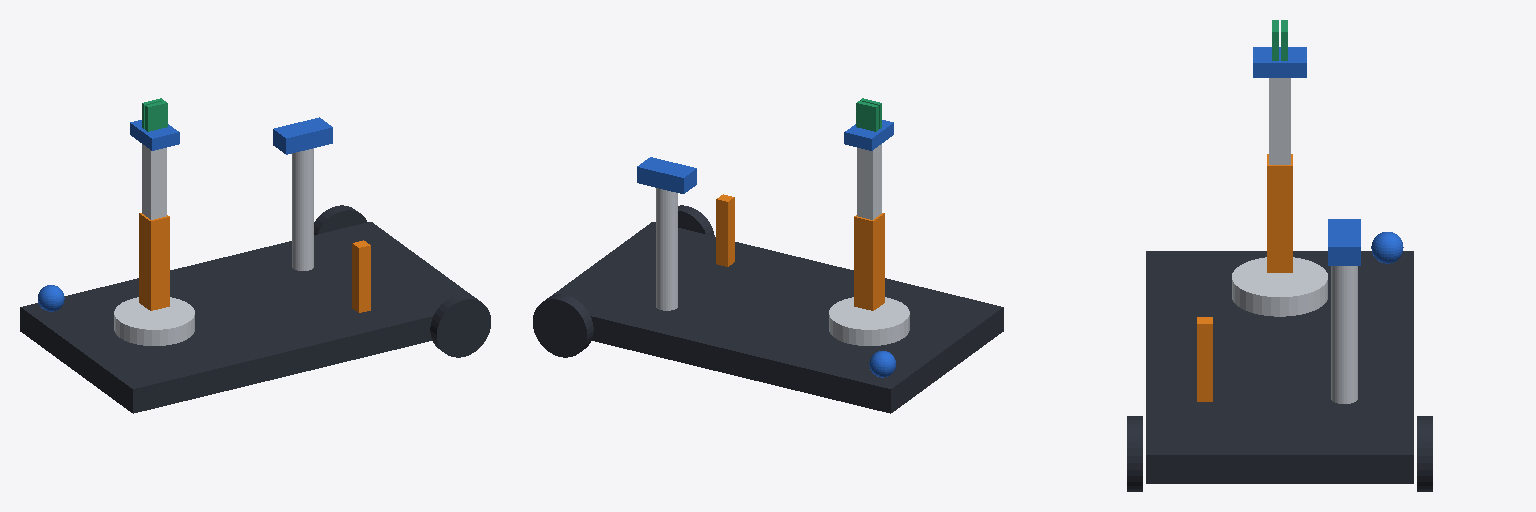
robot.urdf — joint_playground:
<?xml version="1.0"?>
<!--
  Joint playground: one of every joint the viewer poses, built from primitives so it
  needs no mesh files. Metres and radians.

    turntable   continuous  about +Z             (no limits: spins freely)
    shoulder    revolute    about +Y, -90..90 deg
    elbow       revolute    about +Y,   0..135 deg (one-sided limit)
    wrist_roll  revolute    about +X, -180..180 deg (axis along the link)
    lift        prismatic   along +Z, 0..0.25 m
    slide       prismatic   along +X, -0.15..0.15 m (symmetric)
    skew        revolute    about a diagonal axis (1 1 0), -60..60 deg
    finger_left prismatic   along +Y, 0..0.04 m
    finger_right prismatic  mimics finger_left with multiplier -1
    wheel_*     continuous  about +Y (two of them, to check side-by-side handles)
    camera_mount fixed      (must get no handle)
-->
<robot name="joint_playground">
  <material name="base"><color rgba="0.23 0.25 0.29 1"/></material>
  <material name="light"><color rgba="0.82 0.84 0.87 1"/></material>
  <material name="accent"><color rgba="0.95 0.55 0.15 1"/></material>
  <material name="blue"><color rgba="0.22 0.47 0.85 1"/></material>
  <material name="green"><color rgba="0.20 0.66 0.45 1"/></material>

  <link name="base_link">
    <inertial><mass value="4.0"/><origin xyz="0 0 0.03"/><inertia ixx="0.05" ixy="0" ixz="0" iyy="0.08" iyz="0" izz="0.12"/></inertial>
    <visual><origin xyz="0 0 0.03"/><geometry><box size="0.9 0.5 0.06"/></geometry><material name="base"/></visual>
    <collision><origin xyz="0 0 0.03"/><geometry><box size="0.9 0.5 0.06"/></geometry></collision>
  </link>

  <!-- Arm: continuous turntable, two revolutes, a roll about the link's own axis, a gripper. -->
  <link name="turntable_link">
    <inertial><mass value="0.8"/><inertia ixx="0.002" ixy="0" ixz="0" iyy="0.002" iyz="0" izz="0.004"/></inertial>
    <visual><origin xyz="0 0 0.02"/><geometry><cylinder radius="0.09" length="0.04"/></geometry><material name="light"/></visual>
  </link>
  <joint name="turntable" type="continuous">
    <parent link="base_link"/><child link="turntable_link"/>
    <origin xyz="-0.25 0 0.06"/><axis xyz="0 0 1"/>
  </joint>

  <link name="upper_arm_link">
    <inertial><mass value="0.6"/><origin xyz="0 0 0.11"/><inertia ixx="0.003" ixy="0" ixz="0" iyy="0.003" iyz="0" izz="0.0005"/></inertial>
    <visual><origin xyz="0 0 0.11"/><geometry><box size="0.05 0.05 0.22"/></geometry><material name="accent"/></visual>
  </link>
  <joint name="shoulder" type="revolute">
    <parent link="turntable_link"/><child link="upper_arm_link"/>
    <origin xyz="0 0 0.06"/><axis xyz="0 1 0"/>
    <limit lower="-1.5708" upper="1.5708" effort="20" velocity="2"/>
  </joint>

  <link name="forearm_link">
    <inertial><mass value="0.4"/><origin xyz="0 0 0.09"/><inertia ixx="0.001" ixy="0" ixz="0" iyy="0.001" iyz="0" izz="0.0002"/></inertial>
    <visual><origin xyz="0 0 0.09"/><geometry><box size="0.04 0.04 0.18"/></geometry><material name="light"/></visual>
  </link>
  <joint name="elbow" type="revolute">
    <parent link="upper_arm_link"/><child link="forearm_link"/>
    <origin xyz="0 0 0.22"/><axis xyz="0 1 0"/>
    <limit lower="0" upper="2.3562" effort="12" velocity="3"/>
  </joint>

  <link name="wrist_link">
    <inertial><mass value="0.15"/><inertia ixx="0.0001" ixy="0" ixz="0" iyy="0.0001" iyz="0" izz="0.0001"/></inertial>
    <visual><origin xyz="0 0 0.02" rpy="0 0 0"/><geometry><box size="0.07 0.1 0.03"/></geometry><material name="blue"/></visual>
  </link>
  <joint name="wrist_roll" type="revolute">
    <parent link="forearm_link"/><child link="wrist_link"/>
    <origin xyz="0 0 0.18"/><axis xyz="0 0 1"/>
    <limit lower="-3.1416" upper="3.1416" effort="4" velocity="6"/>
  </joint>

  <link name="finger_left_link">
    <visual><origin xyz="0 0 0.03"/><geometry><box size="0.05 0.012 0.06"/></geometry><material name="green"/></visual>
  </link>
  <joint name="finger_left" type="prismatic">
    <parent link="wrist_link"/><child link="finger_left_link"/>
    <origin xyz="0 0.008 0.035"/><axis xyz="0 1 0"/>
    <limit lower="0" upper="0.04" effort="5" velocity="0.2"/>
  </joint>
  <link name="finger_right_link">
    <visual><origin xyz="0 0 0.03"/><geometry><box size="0.05 0.012 0.06"/></geometry><material name="green"/></visual>
  </link>
  <joint name="finger_right" type="prismatic">
    <parent link="wrist_link"/><child link="finger_right_link"/>
    <origin xyz="0 -0.008 0.035"/><axis xyz="0 1 0"/>
    <limit lower="-0.04" upper="0" effort="5" velocity="0.2"/>
    <mimic joint="finger_left" multiplier="-1" offset="0"/>
  </joint>

  <!-- Two prismatics stacked: a vertical lift carrying a horizontal slide. -->
  <link name="lift_link">
    <inertial><mass value="0.5"/><inertia ixx="0.001" ixy="0" ixz="0" iyy="0.001" iyz="0" izz="0.001"/></inertial>
    <visual><origin xyz="0 0 0.15"/><geometry><cylinder radius="0.025" length="0.3"/></geometry><material name="light"/></visual>
  </link>
  <joint name="lift" type="prismatic">
    <parent link="base_link"/><child link="lift_link"/>
    <origin xyz="0.2 0.12 0.06"/><axis xyz="0 0 1"/>
    <limit lower="0" upper="0.25" effort="50" velocity="0.3"/>
  </joint>
  <link name="slide_link">
    <inertial><mass value="0.3"/><inertia ixx="0.0005" ixy="0" ixz="0" iyy="0.0005" iyz="0" izz="0.0005"/></inertial>
    <visual><geometry><box size="0.12 0.06 0.04"/></geometry><material name="blue"/></visual>
  </link>
  <joint name="slide" type="prismatic">
    <parent link="lift_link"/><child link="slide_link"/>
    <origin xyz="0 0 0.32"/><axis xyz="1 0 0"/>
    <limit lower="-0.15" upper="0.15" effort="20" velocity="0.4"/>
  </joint>

  <!-- A revolute about an axis that is no world axis, to check the handle follows it. -->
  <link name="skew_link">
    <visual><origin xyz="0 0 0.08"/><geometry><box size="0.03 0.03 0.16"/></geometry><material name="accent"/></visual>
  </link>
  <joint name="skew" type="revolute">
    <parent link="base_link"/><child link="skew_link"/>
    <origin xyz="0.2 -0.14 0.06"/><axis xyz="1 1 0"/>
    <limit lower="-1.0472" upper="1.0472" effort="8" velocity="2"/>
  </joint>

  <!-- A pair of wheels: two continuous joints side by side. -->
  <link name="wheel_left_link">
    <visual><origin rpy="1.5708 0 0"/><geometry><cylinder radius="0.07" length="0.03"/></geometry><material name="base"/></visual>
  </link>
  <joint name="wheel_left" type="continuous">
    <parent link="base_link"/><child link="wheel_left_link"/>
    <origin xyz="0.38 0.27 0.03"/><axis xyz="0 1 0"/>
  </joint>
  <link name="wheel_right_link">
    <visual><origin rpy="1.5708 0 0"/><geometry><cylinder radius="0.07" length="0.03"/></geometry><material name="base"/></visual>
  </link>
  <joint name="wheel_right" type="continuous">
    <parent link="base_link"/><child link="wheel_right_link"/>
    <origin xyz="0.38 -0.27 0.03"/><axis xyz="0 1 0"/>
  </joint>

  <!-- Fixed: part of the robot, never a handle. -->
  <link name="camera_link">
    <visual><geometry><sphere radius="0.03"/></geometry><material name="blue"/></visual>
  </link>
  <joint name="camera_mount" type="fixed">
    <parent link="base_link"/><child link="camera_link"/>
    <origin xyz="-0.4 0.2 0.09"/>
  </joint>
</robot>

--- Facts derived from the render (not from the file) ---
Views: 3 orthographic renders of the robot side by side, from view 1: azimuth 30°, elevation 25°; view 2: azimuth 150°, elevation 25°; view 3: azimuth 270°, elevation 25°.
Model joint_playground with 13 links and 12 joints (4 revolute, 3 continuous, 4 prismatic, 1 fixed), rooted at base_link, posed every joint at zero.
Visible links, largest first — view 1: base_link, turntable_link, wheel_right_link, upper_arm_link, lift_link, forearm_link, slide_link, skew_link, wheel_left_link, wrist_link, finger_right_link, camera_link; view 2: base_link, turntable_link, wheel_left_link, upper_arm_link, lift_link, forearm_link, slide_link, skew_link, wrist_link, wheel_right_link, finger_left_link, camera_link; view 3: base_link, turntable_link, lift_link, upper_arm_link, forearm_link, slide_link, wrist_link, skew_link, wheel_left_link, wheel_right_link, camera_link.
Link boxes in pixels (x1,y1,x2,y2): base_link: (20, 222, 473, 413); turntable_link: (114, 297, 194, 345); wheel_right_link: (430, 294, 490, 357); upper_arm_link: (139, 213, 169, 310); lift_link: (292, 148, 313, 270); forearm_link: (142, 144, 166, 219); slide_link: (273, 117, 332, 154); skew_link: (352, 240, 370, 312); wheel_left_link: (314, 205, 366, 234); wrist_link: (130, 120, 179, 150); finger_right_link: (145, 101, 167, 131); camera_link: (38, 285, 64, 311); base_link: (550, 222, 1003, 413); turntable_link: (829, 297, 909, 345); wheel_left_link: (533, 294, 593, 357); upper_arm_link: (854, 213, 884, 310); lift_link: (656, 188, 677, 310); forearm_link: (857, 144, 881, 219); slide_link: (637, 157, 696, 193); skew_link: (716, 194, 734, 266); wrist_link: (844, 120, 893, 150); wheel_right_link: (678, 205, 714, 235); finger_left_link: (856, 101, 878, 131); camera_link: (869, 351, 895, 377); base_link: (1146, 251, 1413, 483); turntable_link: (1232, 257, 1327, 316); lift_link: (1331, 266, 1357, 403); upper_arm_link: (1267, 154, 1292, 272); forearm_link: (1269, 78, 1290, 164); slide_link: (1328, 219, 1360, 265); wrist_link: (1253, 47, 1306, 77); skew_link: (1197, 317, 1212, 401); wheel_left_link: (1417, 416, 1432, 491); wheel_right_link: (1127, 416, 1142, 491); camera_link: (1371, 232, 1403, 263).
Size in the robot's own frame: 0.9 by 0.57 by 0.655 metres.
Geometry: primitives only (box / cylinder / sphere), no mesh files.
